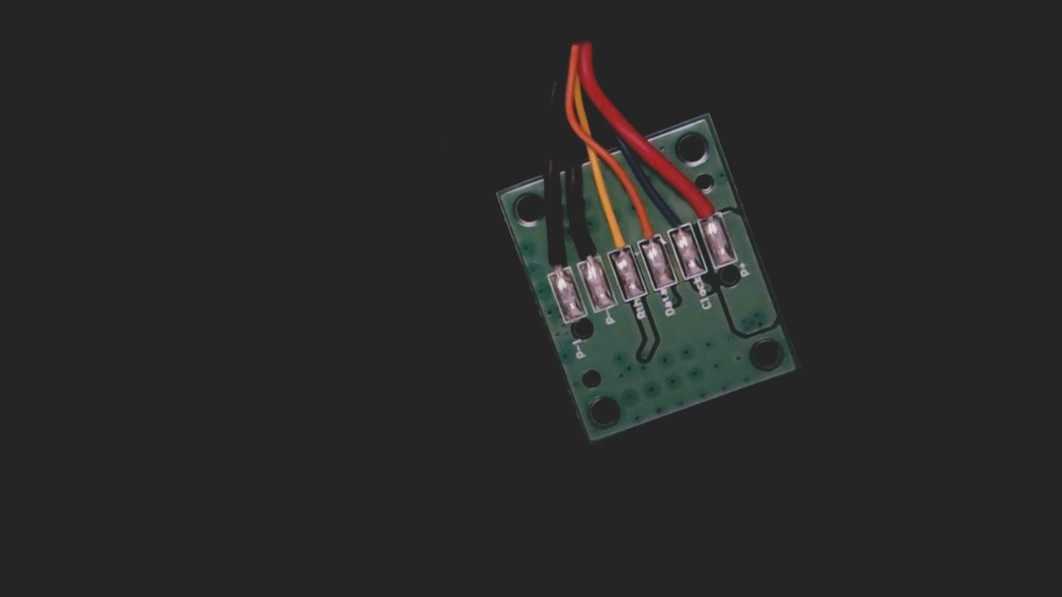Black: (561, 212, 605, 273)
Black1: (532, 228, 574, 286)
Green: (654, 190, 696, 245)
Orange: (622, 191, 665, 254)
Red: (683, 178, 726, 234)
Yellow: (590, 202, 638, 265)
